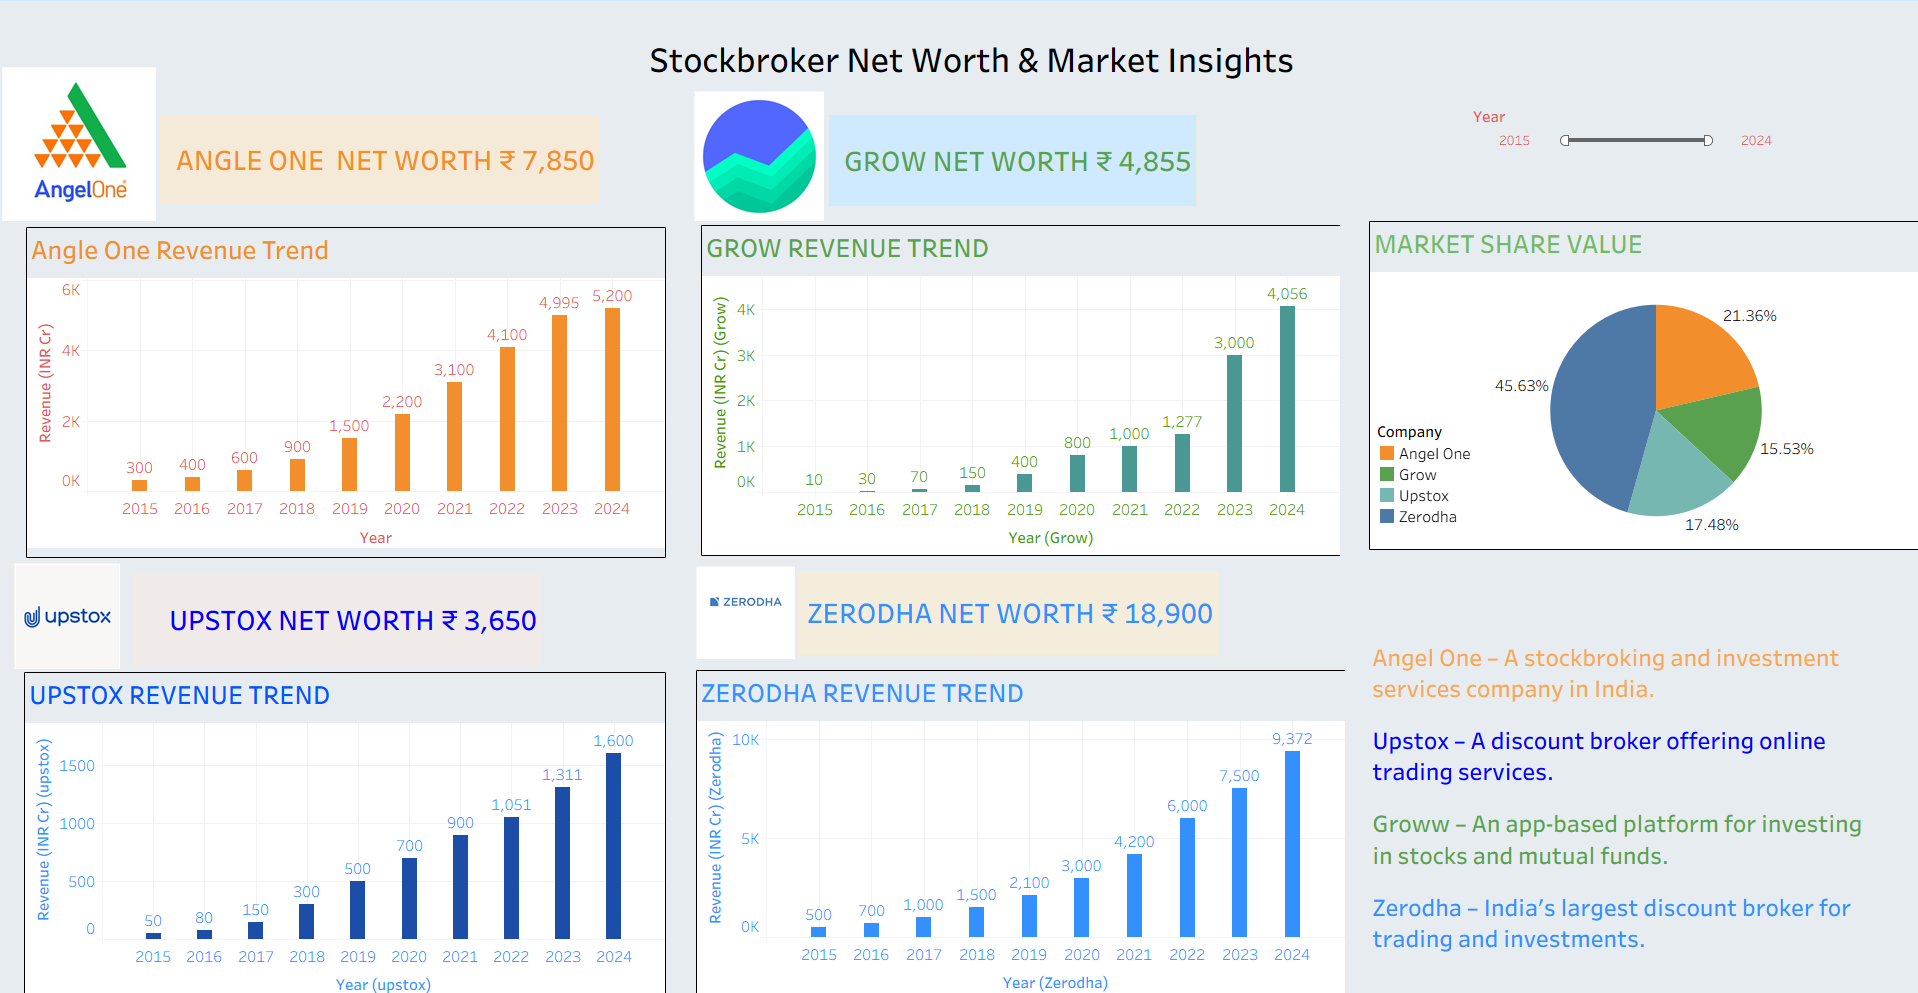

The dashboard page shown, as its layout file describes it:
{"tool":"tableau","page":{"name":"Dashboard 2","canvas":[1000,1000],"units":"permille","ordinal":1},"visuals":[{"type":"text","box":[336.9,4.7,402.5,104.5]},{"type":"image","param":"Image/IMG-20250917-WA0029.jpg","box":[1.6,63.9,80,162.6]},{"type":"image","param":"Image/IMG-20250917-WA0028.jpg","box":[342.7,90.6,106.5,131.2]},{"type":"filter","title":"Sheet 1","param":"[federated.19bdsbw06x80741b1lqpw1bcte57].[none:Year:qk]","box":[720,98.7,263.7,113.8]},{"type":"worksheet","title":"Sheet 5 (2)","mark":"Automatic","box":[432.2,115,221.4,91.8]},{"type":"worksheet","title":"Sheet 5","mark":"Automatic","box":[83.3,116.1,266.1,88.3]},{"type":"worksheet","title":"Sheet 2","mark":"Bar","rows":["Revenue (INR Cr) (Grow)"],"cols":["Year (Grow)"],"box":[365.5,225.3,333.2,333.3]},{"type":"worksheet","title":"Sheet 1","mark":"Bar","rows":["Revenue (INR Cr)"],"cols":["Year"],"box":[14.3,227.6,333.2,333.3]},{"type":"legend","title":"Sheet 6","param":"[federated.19bdsbw06x80741b1lqpw1bcte57].[none:Company:nk]","box":[717.6,422.8,83.9,123.1]},{"type":"image","param":"Image/4a8fc04a855b4e7a968e268b08543958.jpg","box":[326.5,569.1,138.8,94.1]},{"type":"worksheet","title":"Sheet 5 (4)","mark":"Automatic","box":[426.1,573.8,254.1,84.8]},{"type":"worksheet","title":"Sheet 5 (3)","mark":"Automatic","box":[70.6,577.2,275.2,91.8]},{"type":"text","box":[712.1,620.2,262.5,372.8]}]}

Visuals, with their boxes on the dashboard's canvas, which has no fixed pixel size, in thousandths of its width and height (x1, y1, x2, y2). These are canvas units, not pixel positions in the 1918x993 screenshot, which may show the page scaled, cropped or inside an application window:
text: 337:5:739:109
image: 2:64:82:226
image: 343:91:449:222
"Sheet 1" filter: 720:99:984:212
"Sheet 5 (2)" worksheet: 432:115:654:207
"Sheet 5" worksheet: 83:116:349:204
"Sheet 2" worksheet (Bar marks): 366:225:699:559
"Sheet 1" worksheet (Bar marks): 14:228:348:561
"Sheet 6" legend: 718:423:802:546
image: 326:569:465:663
"Sheet 5 (4)" worksheet: 426:574:680:659
"Sheet 5 (3)" worksheet: 71:577:346:669
text: 712:620:975:993
